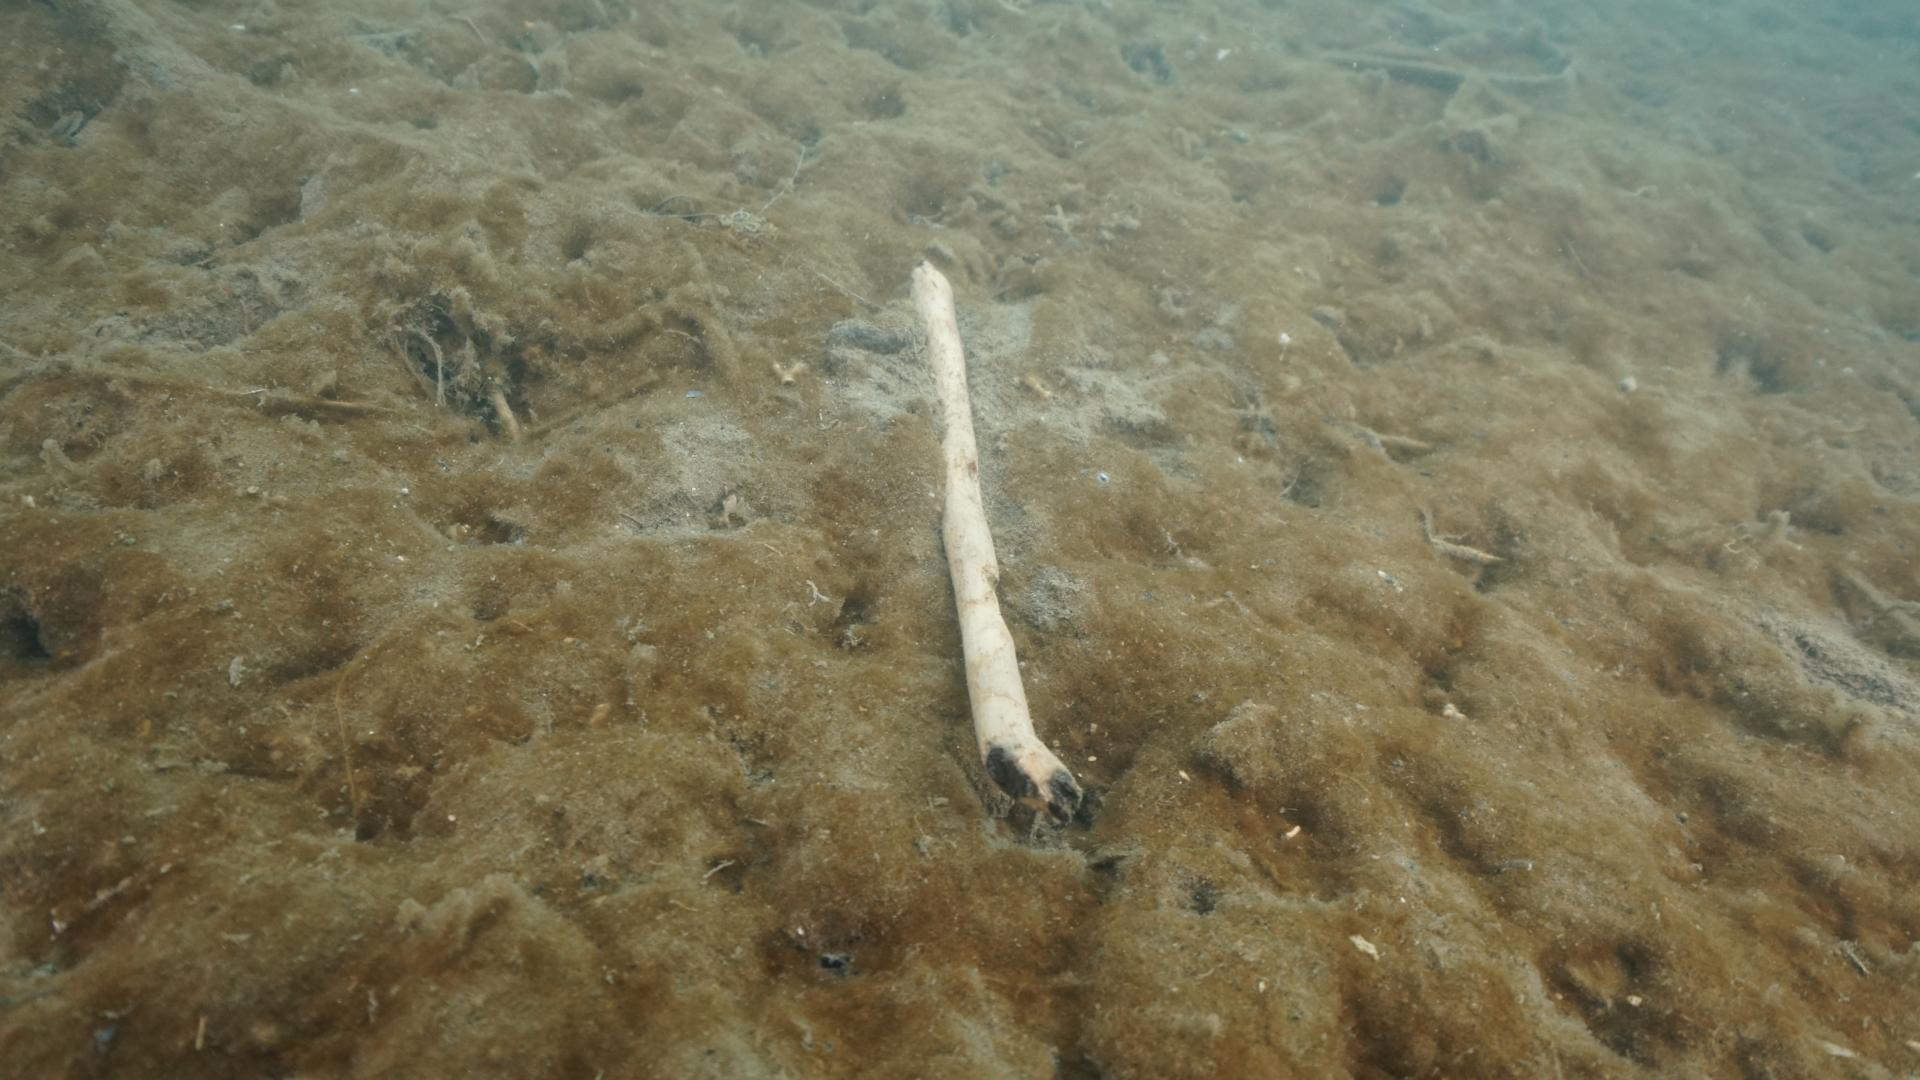wood: (903, 260, 1085, 833)
